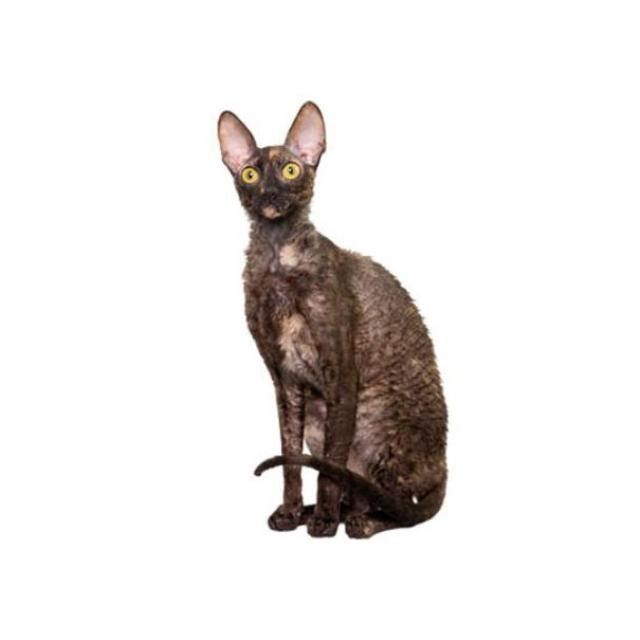Cornish Rex: (211, 94, 457, 545)
